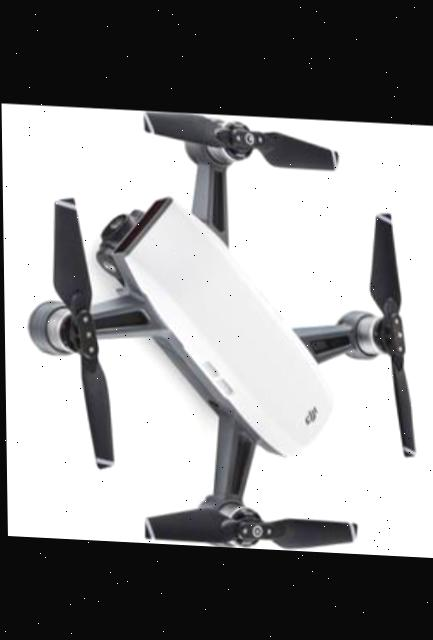drone: (10, 105, 433, 554)
